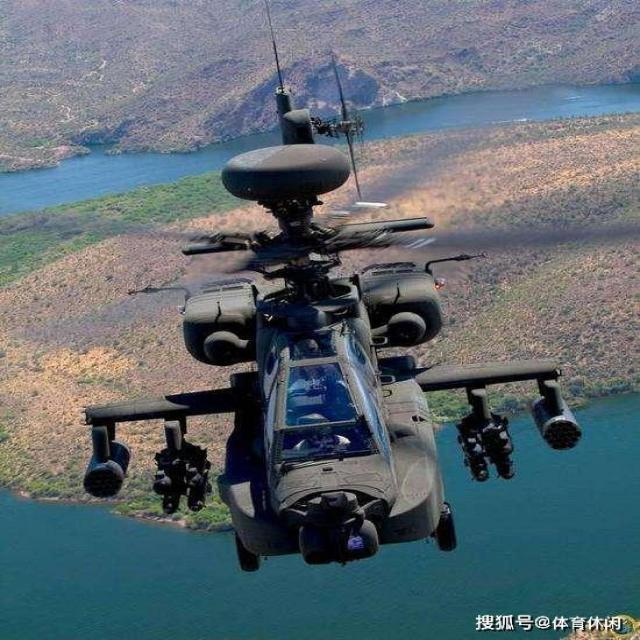MIL_HELO: (26, 69, 603, 577)
